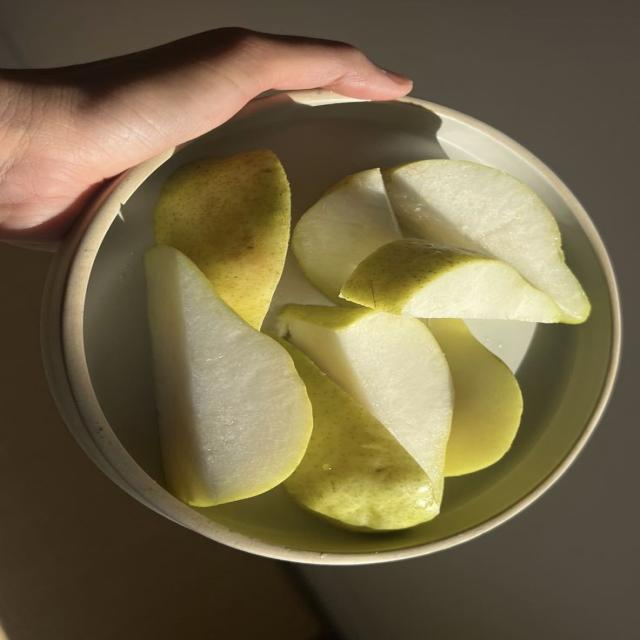apple: (146, 246, 312, 506), (383, 160, 590, 323), (154, 150, 290, 329), (340, 239, 562, 322)
